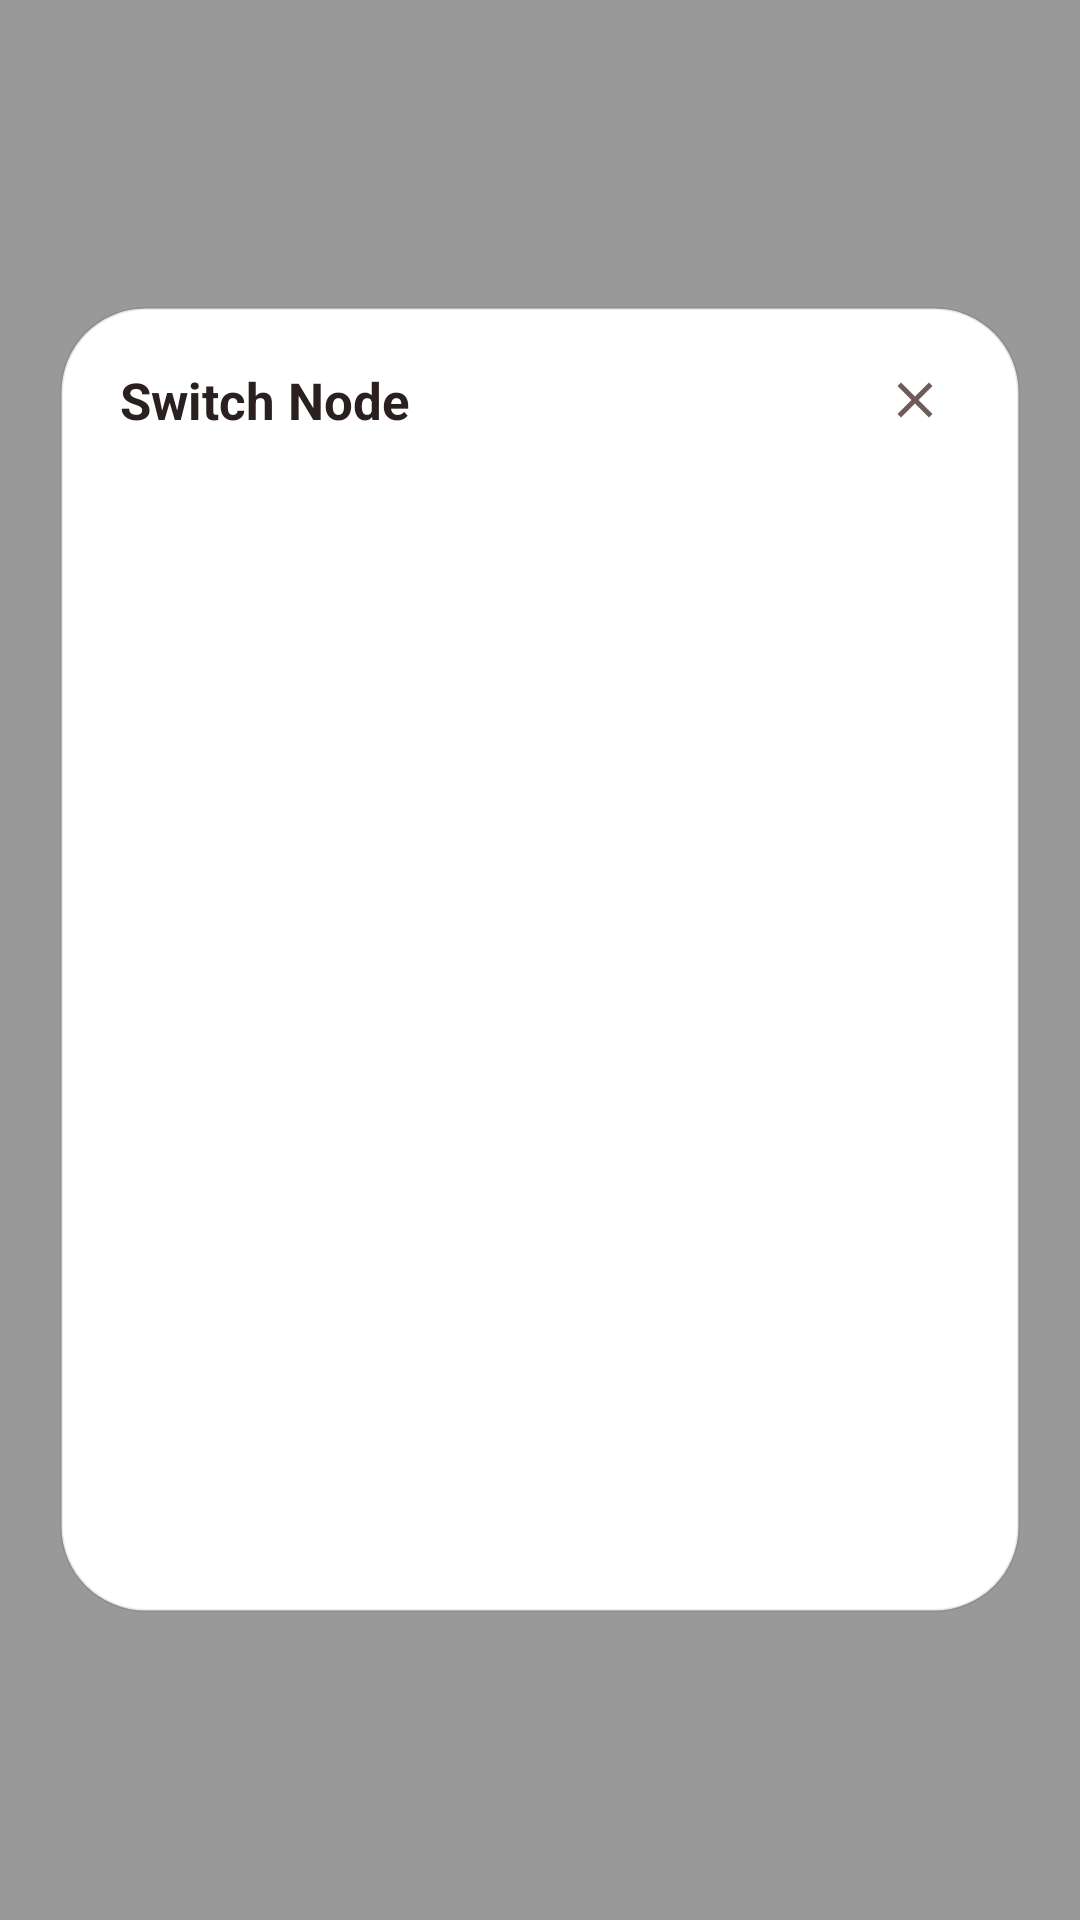

Icons on this 1080 x 1920 Android screen, each with its box as [x1,y1,x2,y2]:
close: [898,383,932,417]
